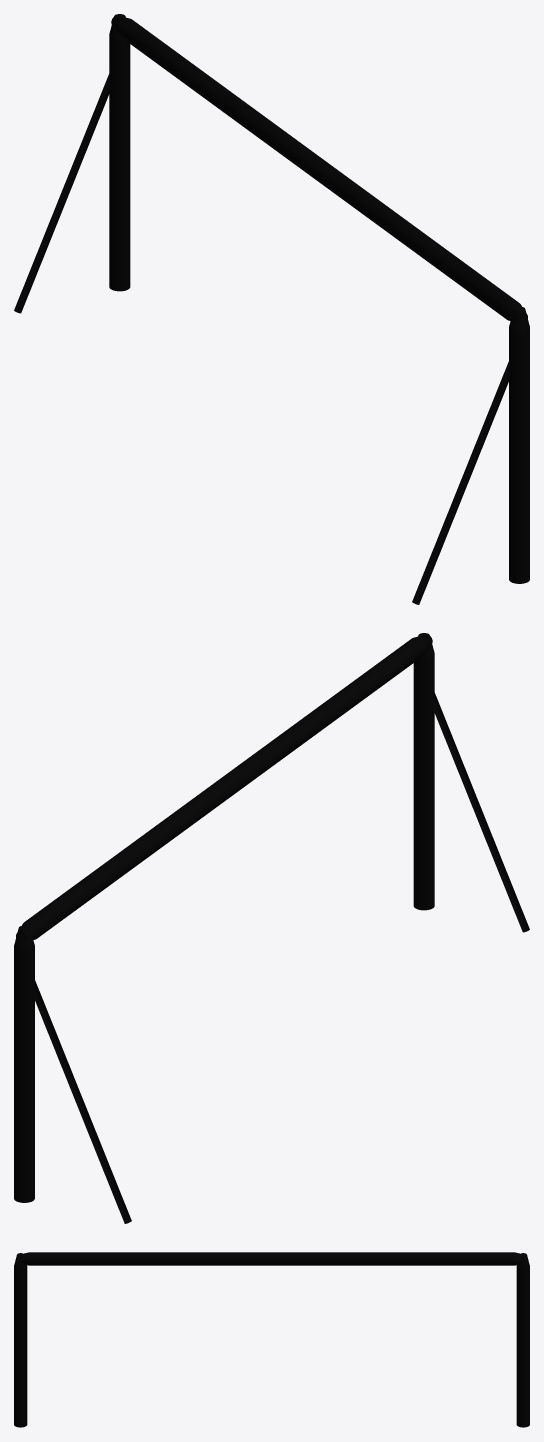
The model's file is footballPole.fbx.
3 views of the same model, one above another, from view 1: azimuth 30°, elevation 25°; view 2: azimuth 150°, elevation 25°; view 3: azimuth 270°, elevation 25° (orthographic). The views are drawn at different scales.
Parts seen in each view (by area): view 1: Cylinder; view 2: Cylinder; view 3: Cylinder.
Part boxes in pixels (box(x1,y1,x2,y2)): Cylinder: box(14, 14, 529, 604); Cylinder: box(14, 633, 529, 1223); Cylinder: box(14, 1252, 529, 1427).
Size of the model in its own units: 90.85 by 207 by 561.
